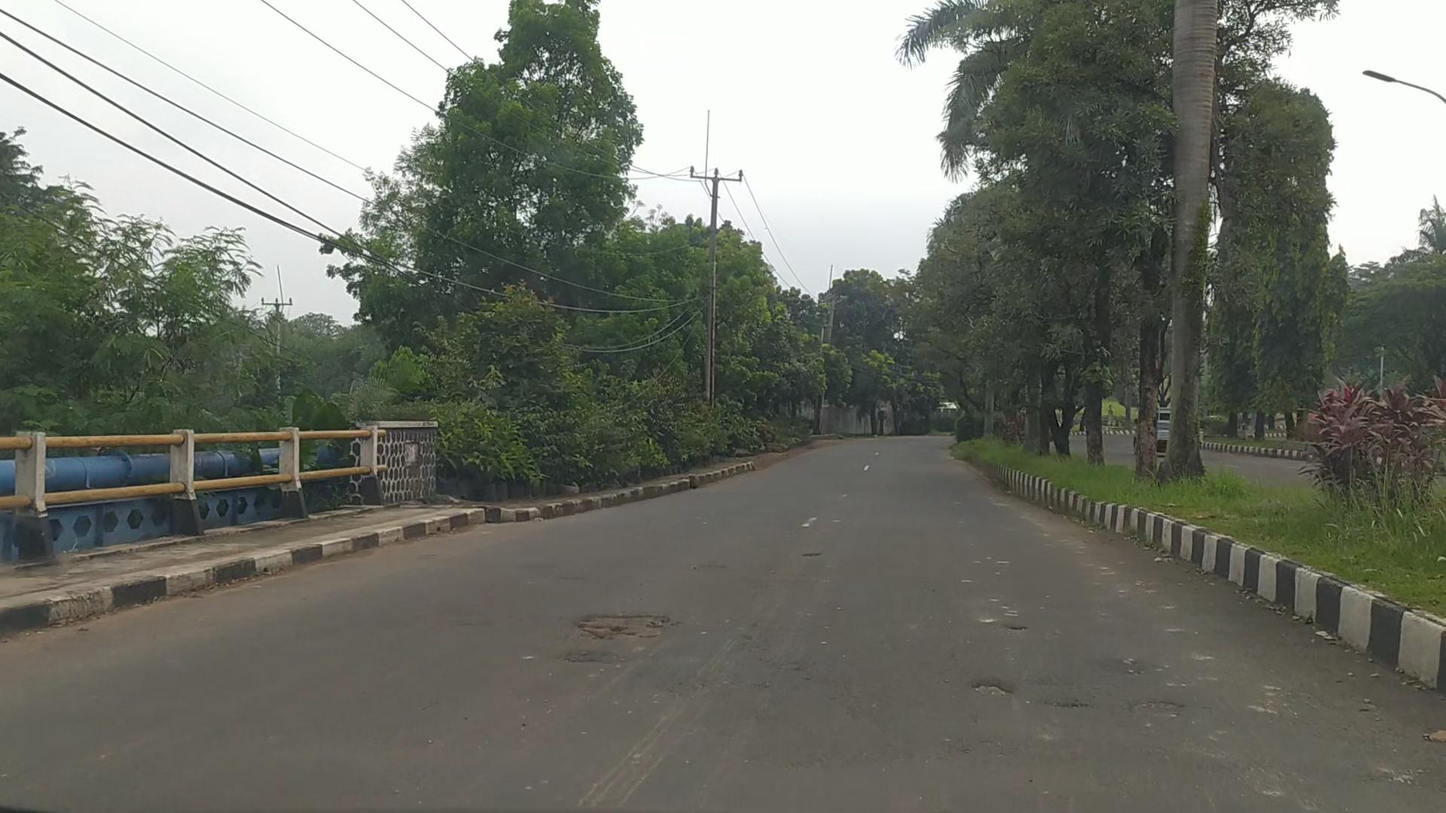pothole: (573, 607, 664, 638)
